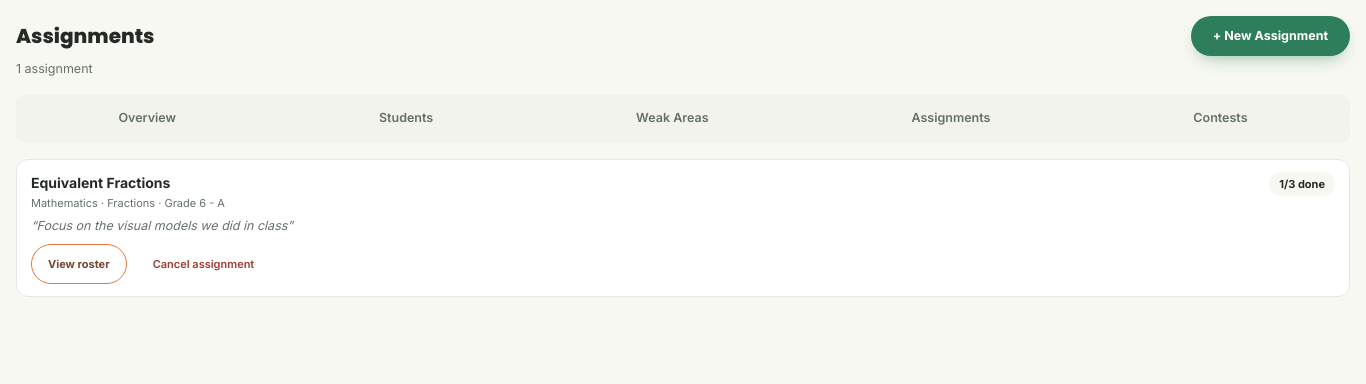
Scenario: TeacherAssignments › cancelling: shows an error and keeps the assignment when the delete fails
Expected: the text "Equivalent Fractions" is shown, [31,174,170,191]
Click the button "Cancel assignment": (203, 264) [139,244,268,284]
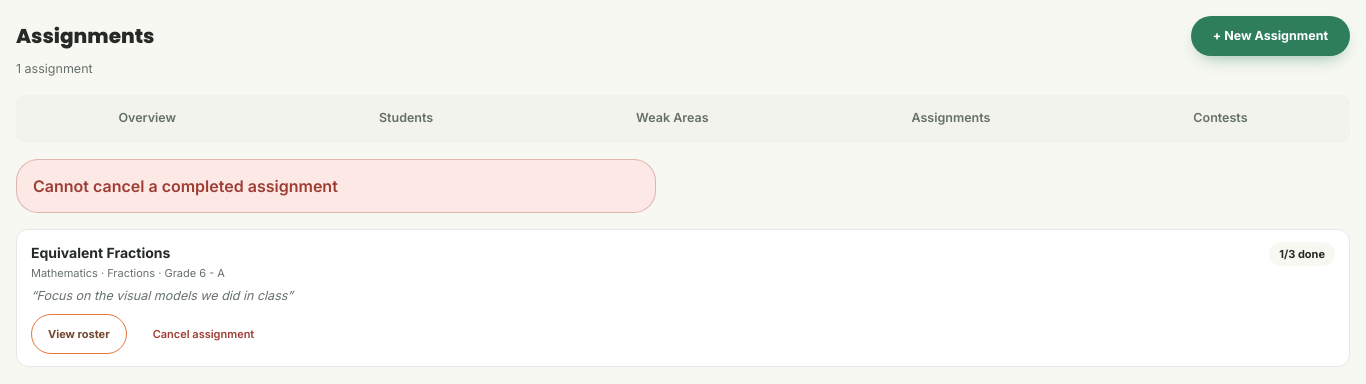
Expected: the text "Equivalent Fractions" is shown, [31,244,170,261]
Expected: the text "Cannot cancel a completed assignment" is shown, [16,159,656,213]
